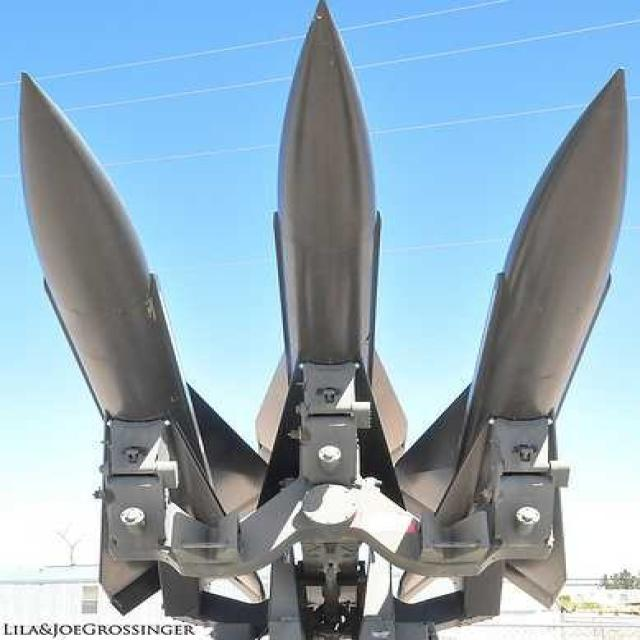missile: (14, 66, 268, 536), (387, 65, 637, 525), (236, 0, 414, 475)
